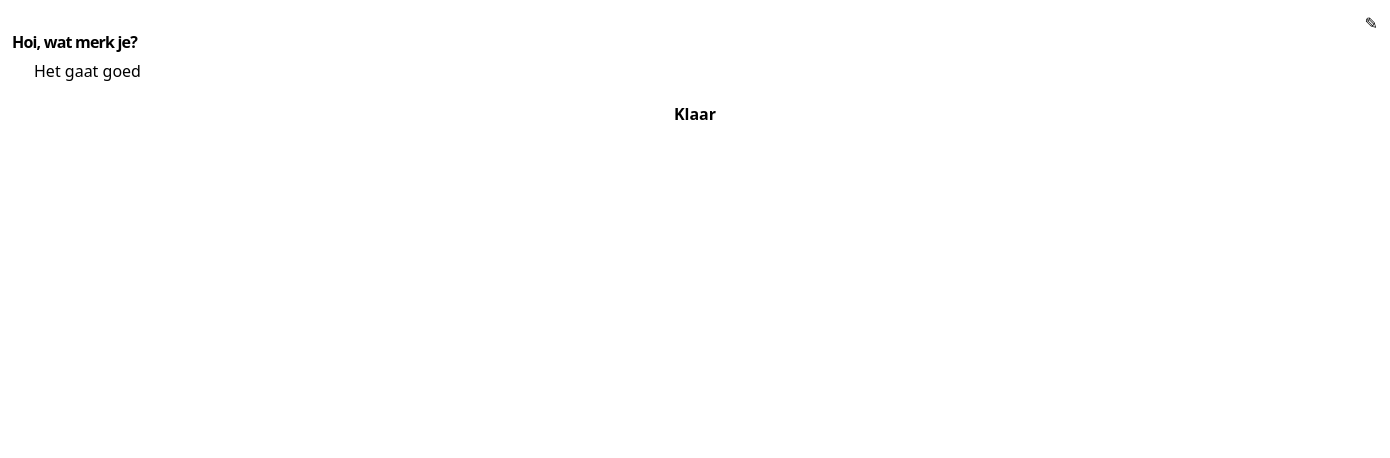
it: App › opens the plan screen after holding the button, with the explanation for an empty plan
Press the mouse on the button named "Invullen voor de begeleider" at (1371, 23), box x1=1365 y1=12 x2=1378 y2=34
Wait 3100 ms
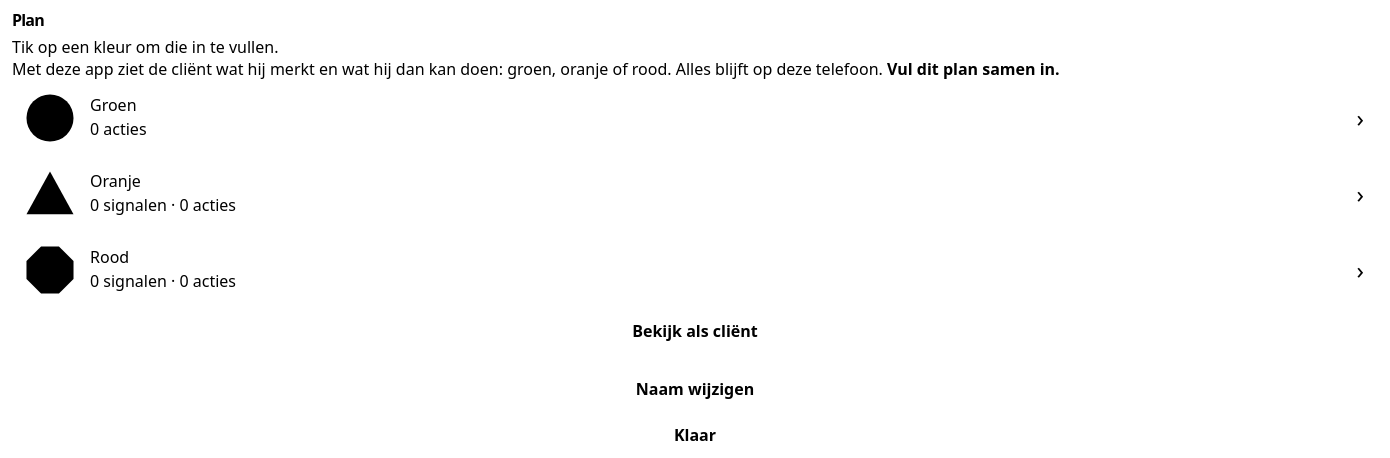
Expected: the text "Vul dit plan samen in." is shown, x1=887 y1=58 x2=1060 y2=80
